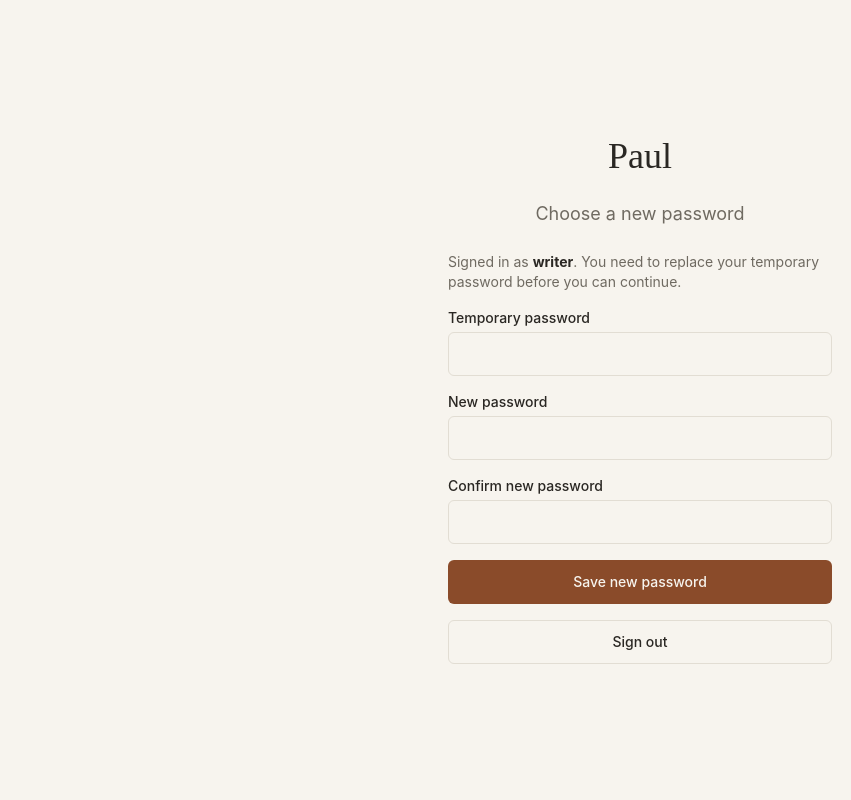
Test: change password page › lets a user with a temporary password choose a new one
Type "admin" into the password field labelled "Temporary password".
click(640, 354); type("admin")  # box [448, 332, 832, 376]
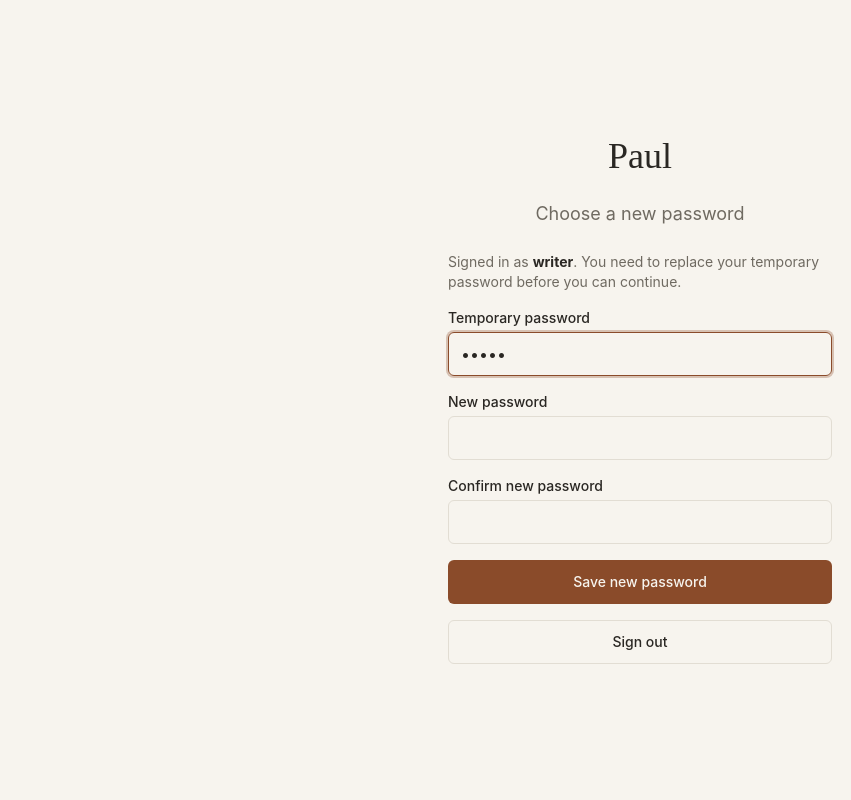
Type "a-much-better-one" into the password field labelled "New password".
click(640, 438); type("a-much-better-one")  # box [448, 416, 832, 460]
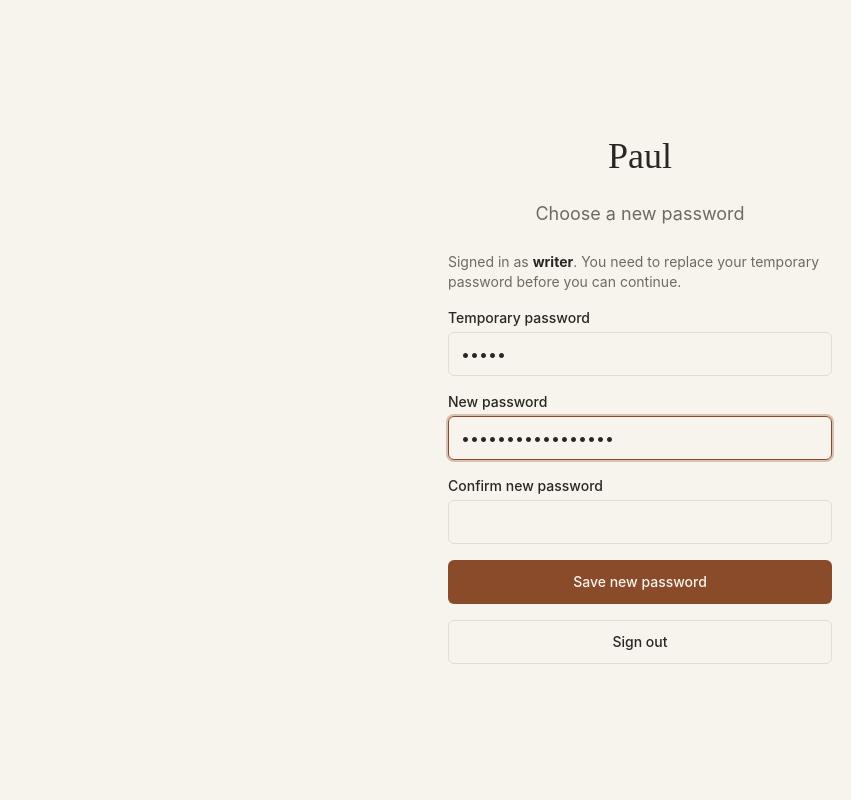
Type "a-much-better-one" into the password field labelled "Confirm new password".
click(640, 522); type("a-much-better-one")  # box [448, 500, 832, 544]
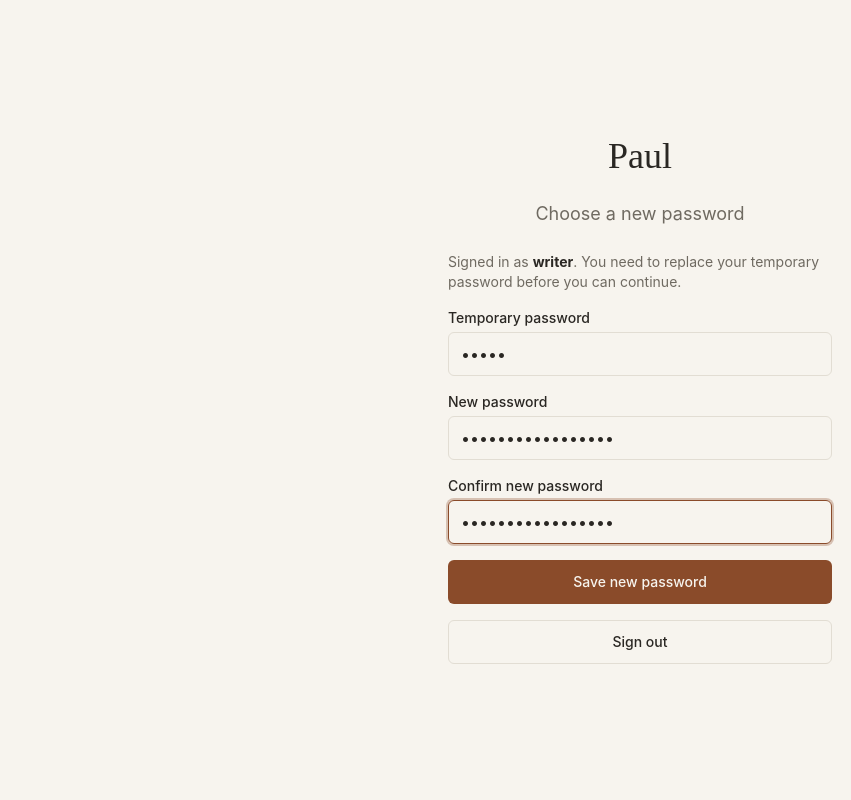
Click the button "Save new password".
click(640, 582)  # box [448, 560, 832, 604]
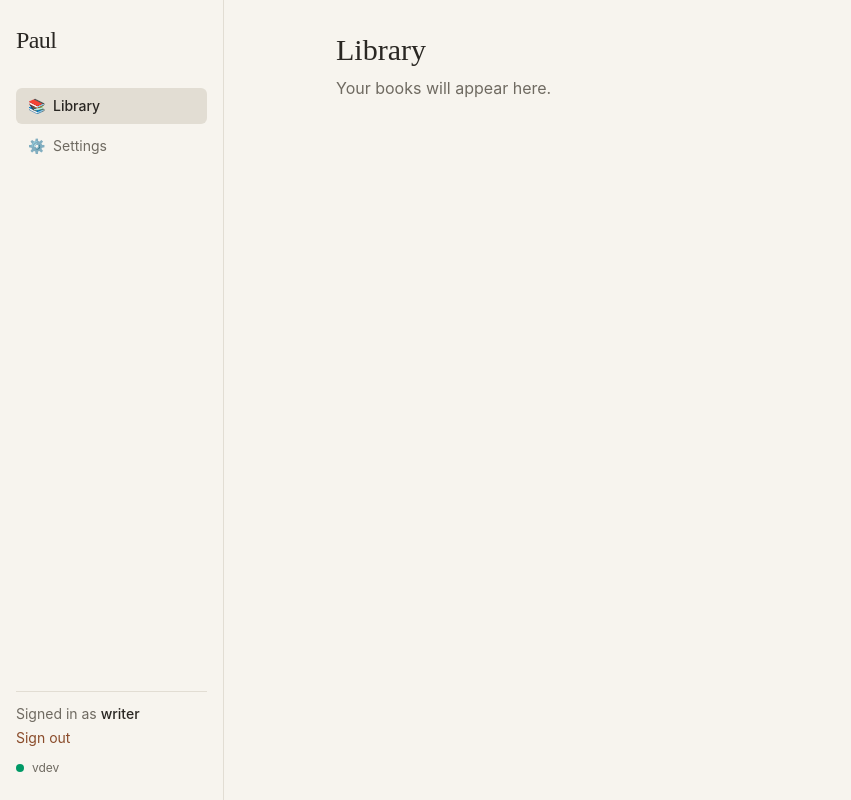
Expected: the heading "Library" is shown, [336, 33, 426, 66]
